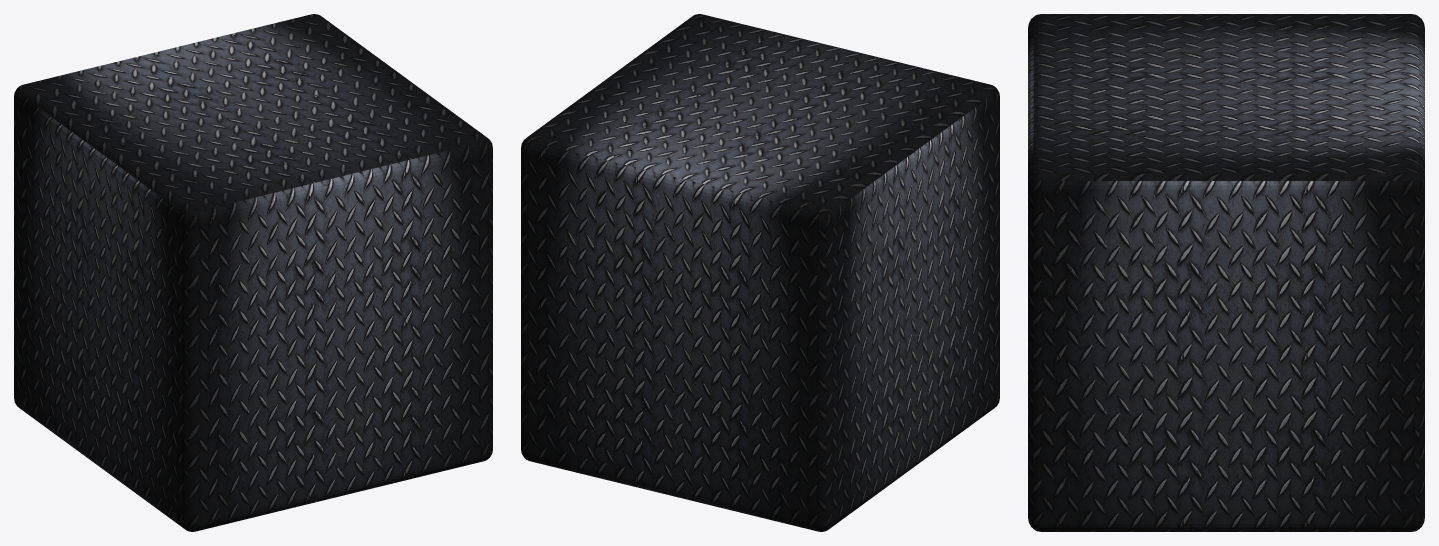
The model's file is kubs1.fbx.
3 renders of one model, left to right at view 1: azimuth 30°, elevation 25°; view 2: azimuth 150°, elevation 25°; view 3: azimuth 270°, elevation 25°, orthographic. The views are drawn at different scales.
Visible parts, largest first — view 1: Объект_Куб_3; view 2: Объект_Куб_3; view 3: Объект_Куб_3.
Part boxes in pixels (left/top/right/bottom): Объект_Куб_3: left=14, top=14, right=492, bottom=531; Объект_Куб_3: left=521, top=14, right=999, bottom=531; Объект_Куб_3: left=1028, top=14, right=1424, bottom=531.
Bounding box in the file's own units: 200 × 200 × 200.
1 material, 1 textured.
